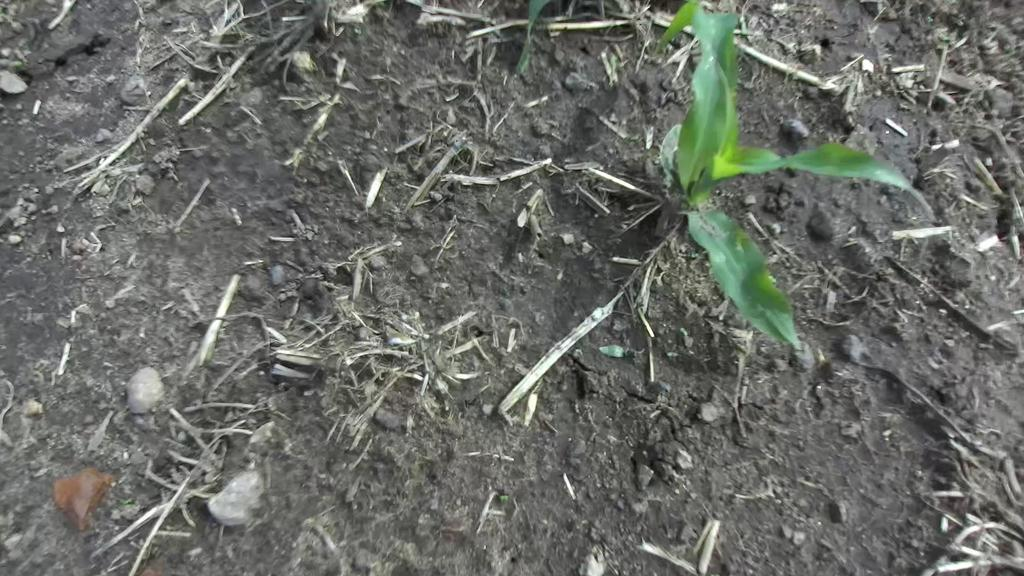BroWeed: (517, 373, 547, 427), (309, 514, 342, 555), (595, 45, 619, 86), (290, 47, 320, 74), (579, 545, 605, 576), (244, 421, 277, 445), (598, 341, 632, 362), (524, 186, 545, 209), (607, 51, 619, 87), (548, 229, 575, 245), (370, 561, 395, 576), (933, 26, 948, 50), (815, 346, 827, 369), (644, 126, 655, 150), (325, 517, 338, 536), (770, 221, 785, 237), (732, 341, 749, 355), (517, 207, 528, 228), (0, 7, 12, 26), (0, 59, 22, 67), (631, 130, 643, 142), (677, 326, 689, 338), (120, 496, 133, 505), (940, 33, 950, 43), (666, 350, 679, 357), (927, 14, 935, 24), (494, 28, 502, 38), (500, 495, 509, 501)
